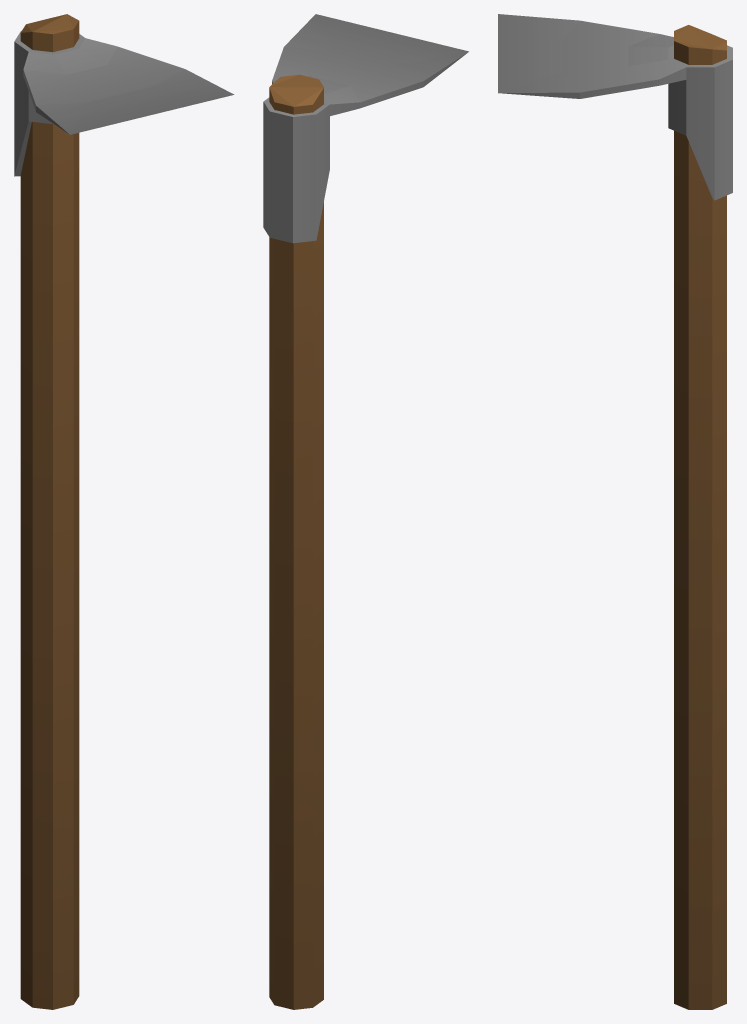
File: Tool_Hoe_01.obj
3 renders of one model, left to right at view 1: azimuth 30°, elevation 25°; view 2: azimuth 150°, elevation 25°; view 3: azimuth 270°, elevation 25°, orthographic. The views are drawn at different scales.
Visible parts, largest first — view 1: Tool_Hoe_01; view 2: Tool_Hoe_01; view 3: Tool_Hoe_01.
Boxes of the visible parts, x1,y1,x2,y2 form: Tool_Hoe_01: (14, 14, 234, 1009); Tool_Hoe_01: (263, 14, 468, 1009); Tool_Hoe_01: (498, 14, 732, 1009).
Size of the model in its own units: 0.2189 by 1.24 by 0.2741.
1 material, 1 textured.
